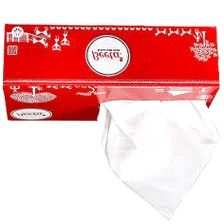book: (0, 18, 224, 127)
tissue: (88, 95, 224, 224)
